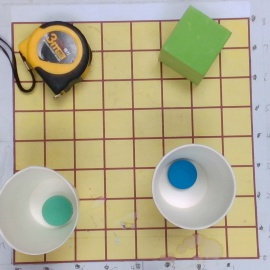cup_blue: (150, 137, 236, 231)
cup_green: (3, 165, 90, 254)
